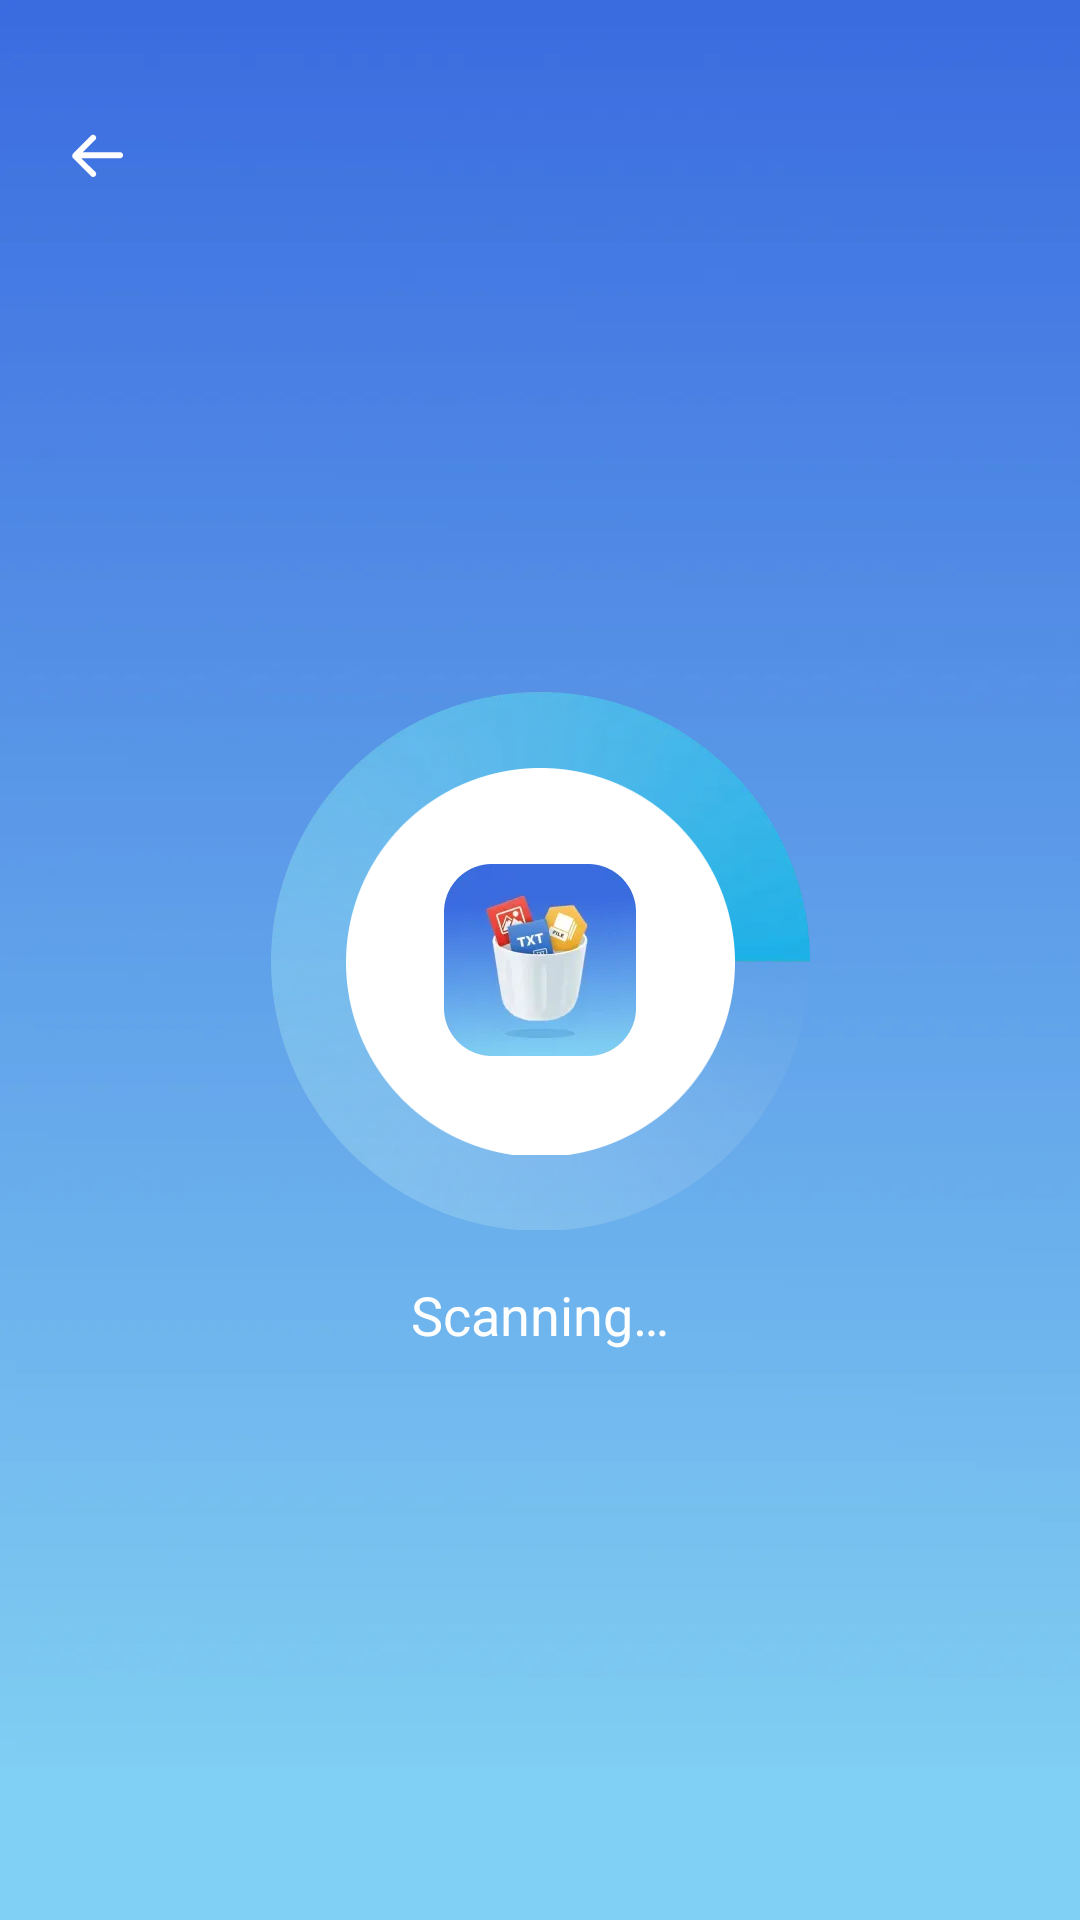

Locate icon controls on the screen. Image size 1080x1920, boxes as box(x1, y1, x2, y2).
back tui: box(72, 134, 123, 177)
